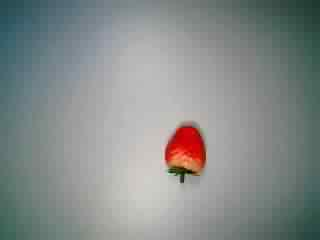strawberry: (151, 119, 216, 186)
